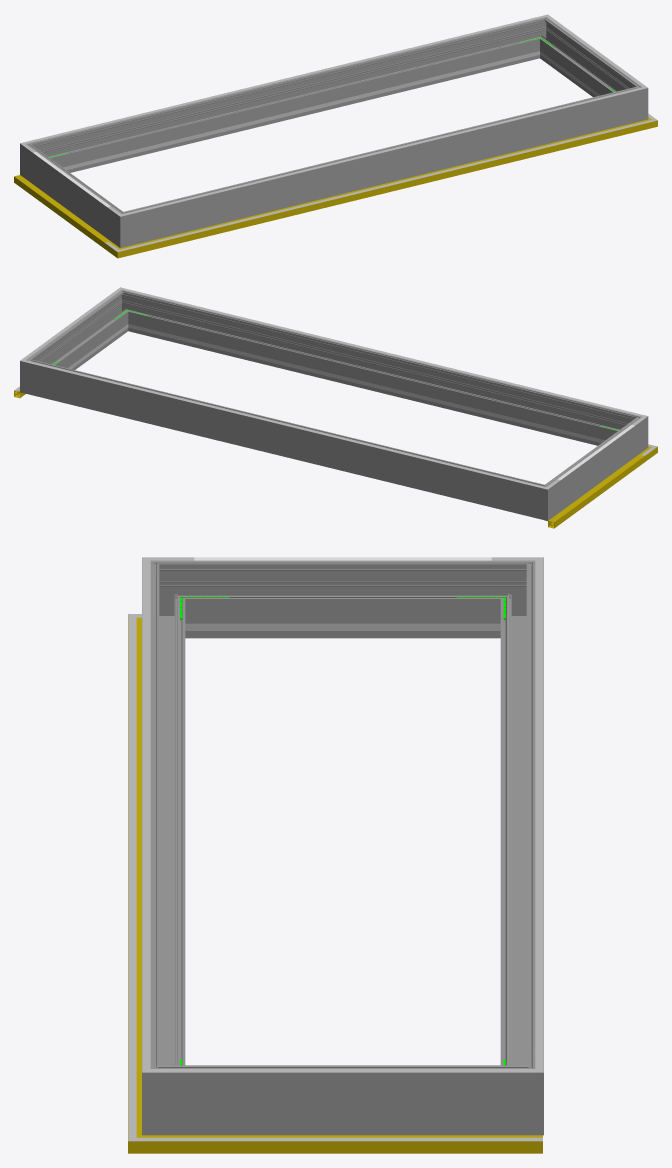
3 renders of one model, top to bottom at view 1: azimuth 30°, elevation 25°; view 2: azimuth 150°, elevation 25°; view 3: azimuth 270°, elevation 25°, orthographic. The views are drawn at different scales.
Visible parts, largest first — view 1: 3DGeom-276, 3DGeom-298, 3DGeom-11, 3DGeom-297, 3DGeom-268, 3DGeom-244, 3DGeom-20, 3DGeom-304, 3DGeom-316, 3DGeom-270, 3DGeom-6, 3DGeom-290 (+3 smaller); view 2: 3DGeom-298, 3DGeom-276, 3DGeom-297, 3DGeom-268, 3DGeom-239, 3DGeom-304, 3DGeom-316, 3DGeom-278, 3DGeom-6, 3DGeom-284, 3DGeom-290, 3DGeom-270 (+1 smaller); view 3: 3DGeom-268, 3DGeom-297, 3DGeom-276, 3DGeom-298, 3DGeom-16, 3DGeom-20, 3DGeom-304, 3DGeom-316, 3DGeom-284, 3DGeom-290, 3DGeom-11, 3DGeom-270 (+6 smaller).
Part boxes in pixels (x1,y1,x2,y2): 3DGeom-276: (44,21,536,172); 3DGeom-298: (138,90,625,242); 3DGeom-11: (137,123,635,252); 3DGeom-297: (542,25,631,97); 3DGeom-268: (33,151,114,238); 3DGeom-244: (71,56,518,168); 3DGeom-20: (138,124,634,246); 3DGeom-304: (42,20,526,139); 3DGeom-316: (141,92,625,210); 3DGeom-270: (107,205,142,247); 3DGeom-6: (14,175,110,248); 3DGeom-290: (622,79,648,124); 3DGeom-298: (132,294,623,445); 3DGeom-276: (42,363,529,515); 3DGeom-297: (36,298,125,369); 3DGeom-268: (554,424,635,511); 3DGeom-239: (150,329,596,441); 3DGeom-304: (43,365,526,483); 3DGeom-316: (141,293,625,411); 3DGeom-278: (525,478,560,520); 3DGeom-6: (546,454,644,528); 3DGeom-284: (20,352,46,397); 3DGeom-290: (111,287,140,332); 3DGeom-270: (615,412,648,456); 3DGeom-268: (194,560,491,638); 3DGeom-297: (194,1065,491,1135); 3DGeom-276: (500,579,543,1065); 3DGeom-298: (142,579,185,1065); 3DGeom-16: (180,1135,542,1153); 3DGeom-20: (128,636,136,1119); 3DGeom-304: (535,579,543,1050); 3DGeom-316: (142,579,150,1050); 3DGeom-284: (492,1050,543,1135); 3DGeom-290: (142,1050,193,1135); 3DGeom-11: (128,636,141,1119); 3DGeom-270: (142,557,193,638).
Bounding box in the file's own units: 3.66 × 0.2434 × 1.22.
